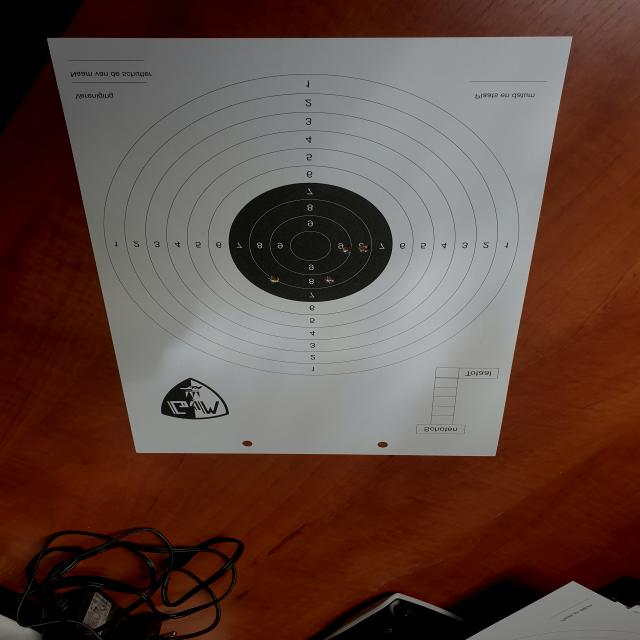8: (357, 243, 371, 254), (267, 274, 280, 284), (324, 275, 336, 285)
9: (340, 244, 352, 255)
Target: (104, 74, 520, 376)
black_contour: (230, 182, 393, 303)
